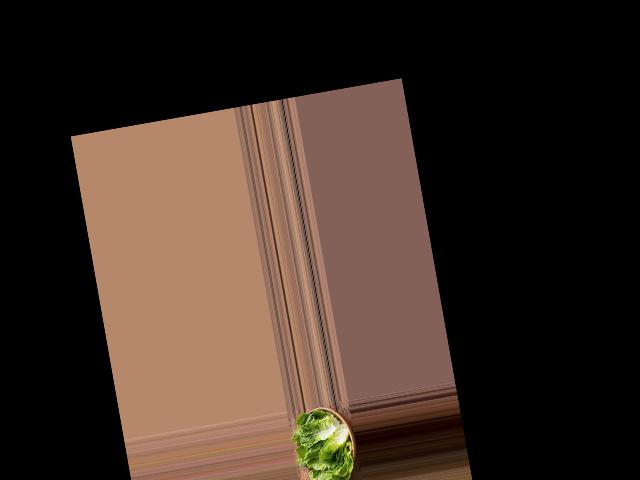lettuce: (289, 398, 363, 480)
